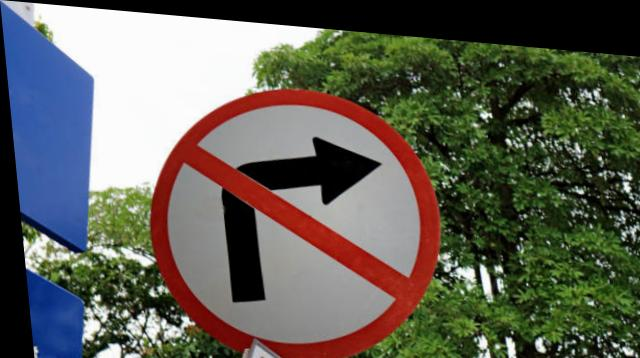not_turn_right: (129, 71, 447, 358)
